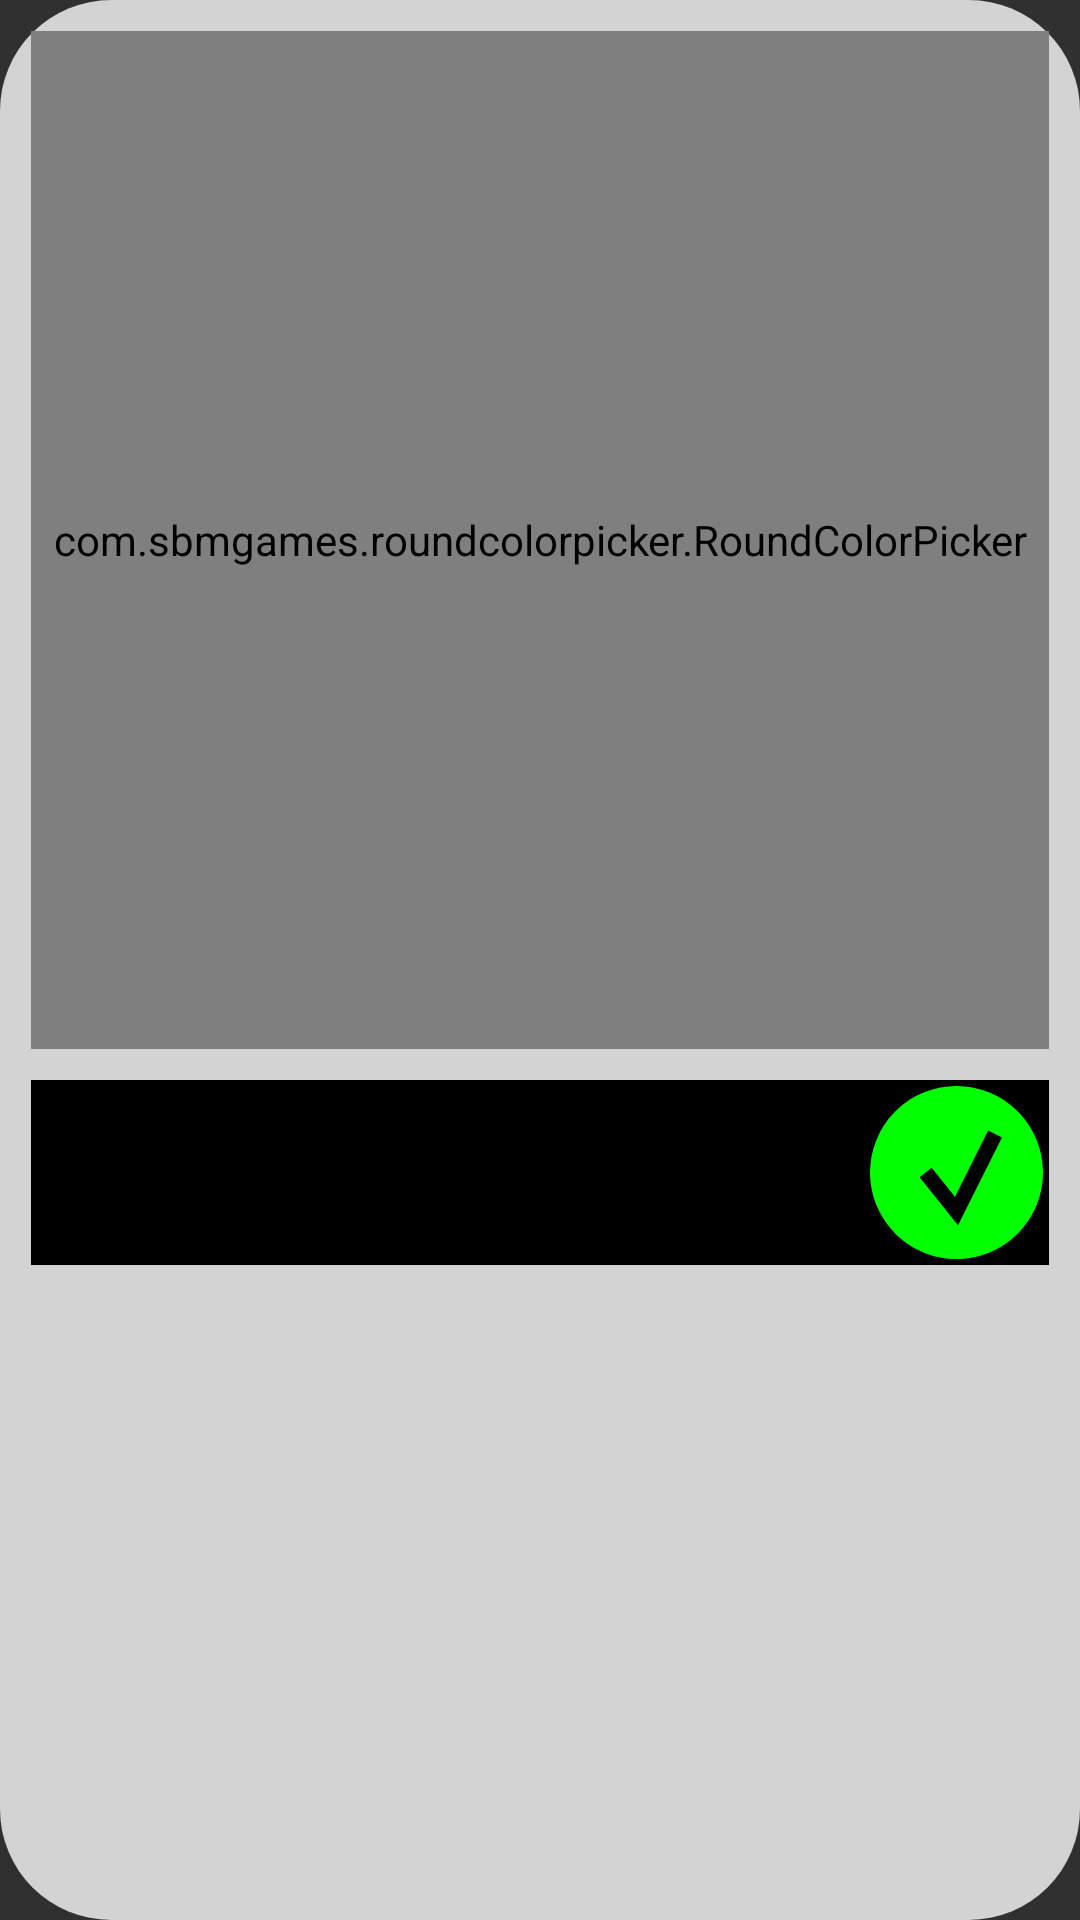

Icons on this 1080x1920 Android screen, each with its box as (x1, y1, x2, y2):
circle ok: (864, 1080, 1049, 1265)
